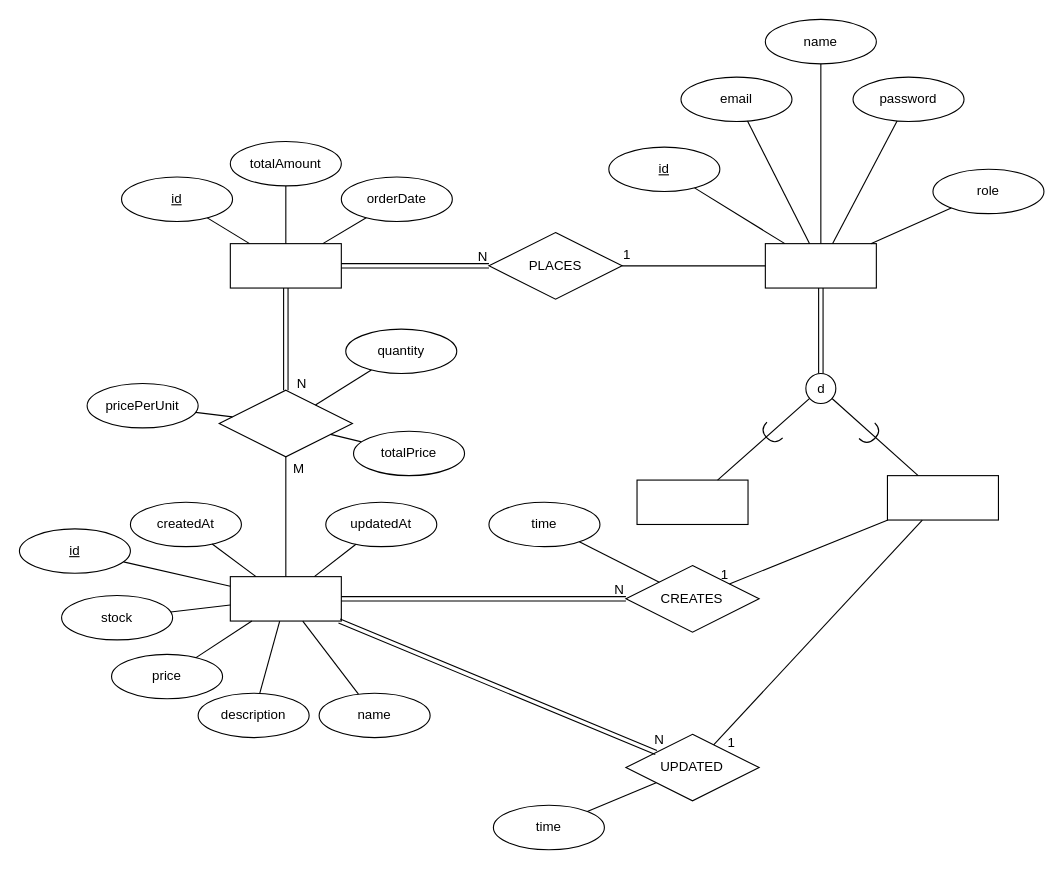
The diagram is 1063 pixels wide and 869 high, and some of its shapes have lost their labels. Each missing label, with the centre of its shape:
ADMIN: point (942, 497)
CUSTOMER: point (692, 501)
HAS: point (285, 423)
ORDER: point (285, 265)
PRODUCT: point (285, 598)
USER: point (820, 265)
